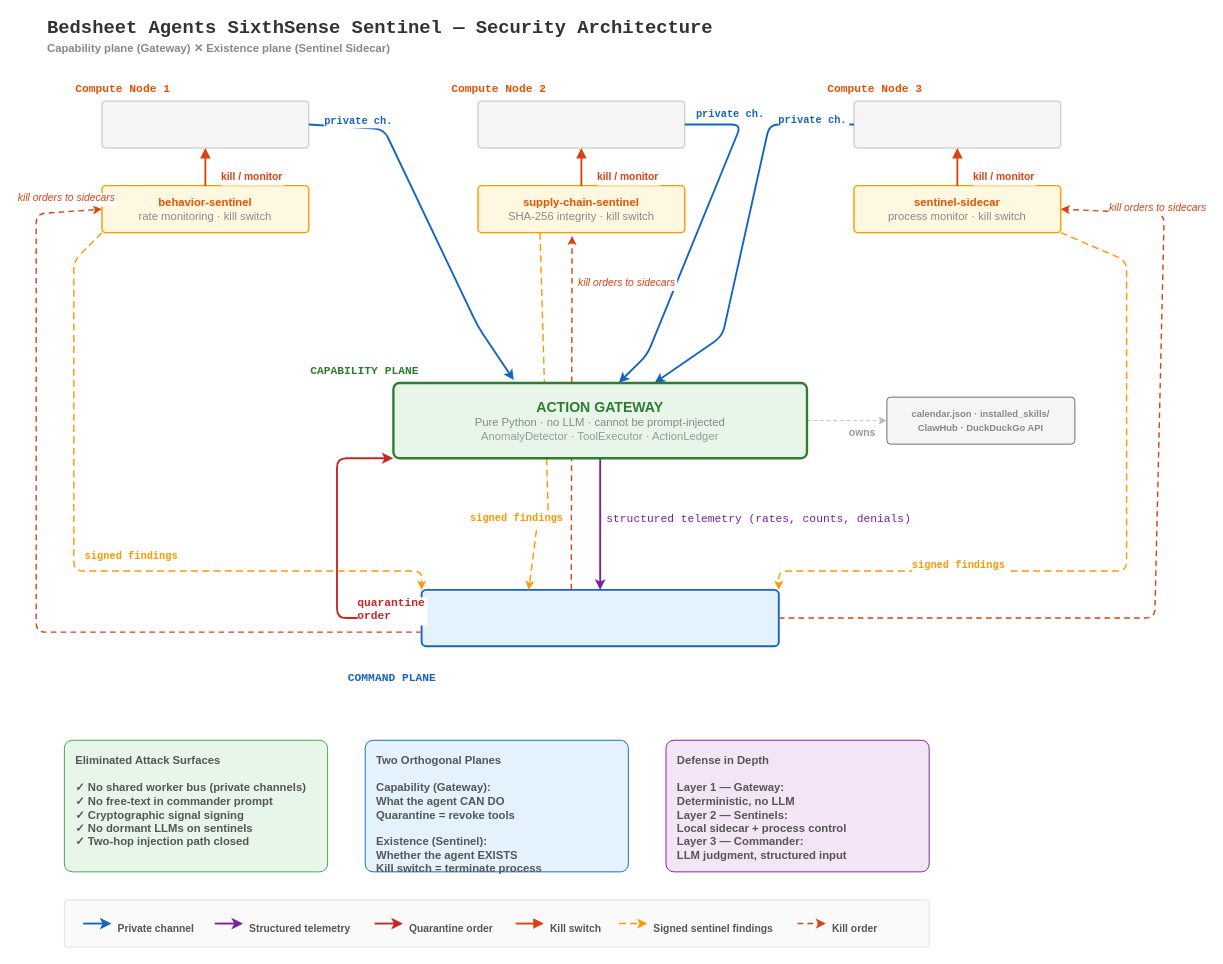
This 1223x964 diagram has some shape labels left out. Here are the shapes that lost their labels. From the top down, the box of each, then its label:
(101, 100, 309, 148): scheduler LLM + calendar tools
(477, 100, 685, 148): web-researcher LLM + search tools
(853, 100, 1061, 148): skill-acquirer LLM + install tools
(420, 588, 779, 647): sentinel-commander LLM judgment · structured input only · no free-text
